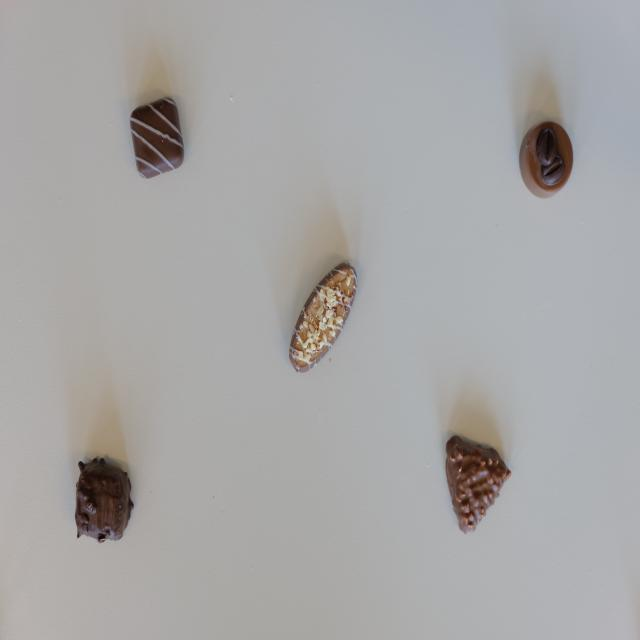Amandina: (289, 261, 358, 373)
Arabia: (519, 120, 574, 196)
Stracciatella: (131, 97, 184, 182)
Tentation_noir: (74, 456, 135, 542)
Triangolo: (444, 438, 510, 535)
